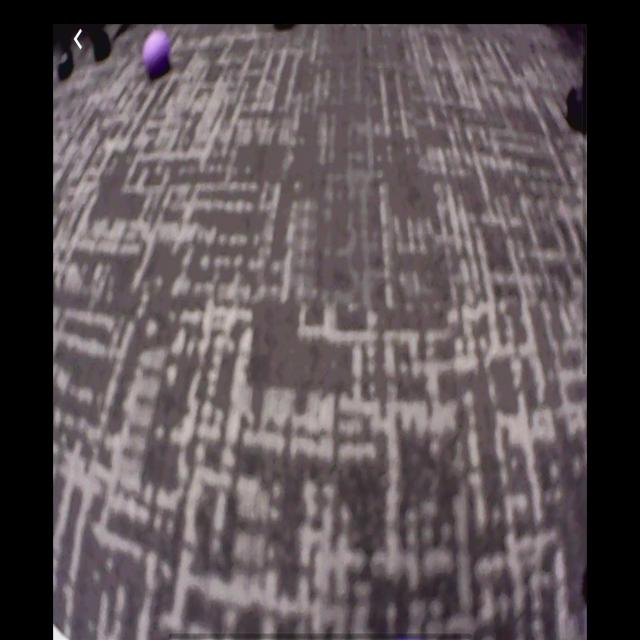ball: (143, 31, 171, 74)
